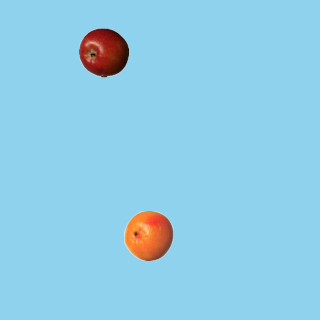Apple Braeburn: (78, 27, 128, 77)
Grapefruit Pink: (123, 210, 173, 260)
